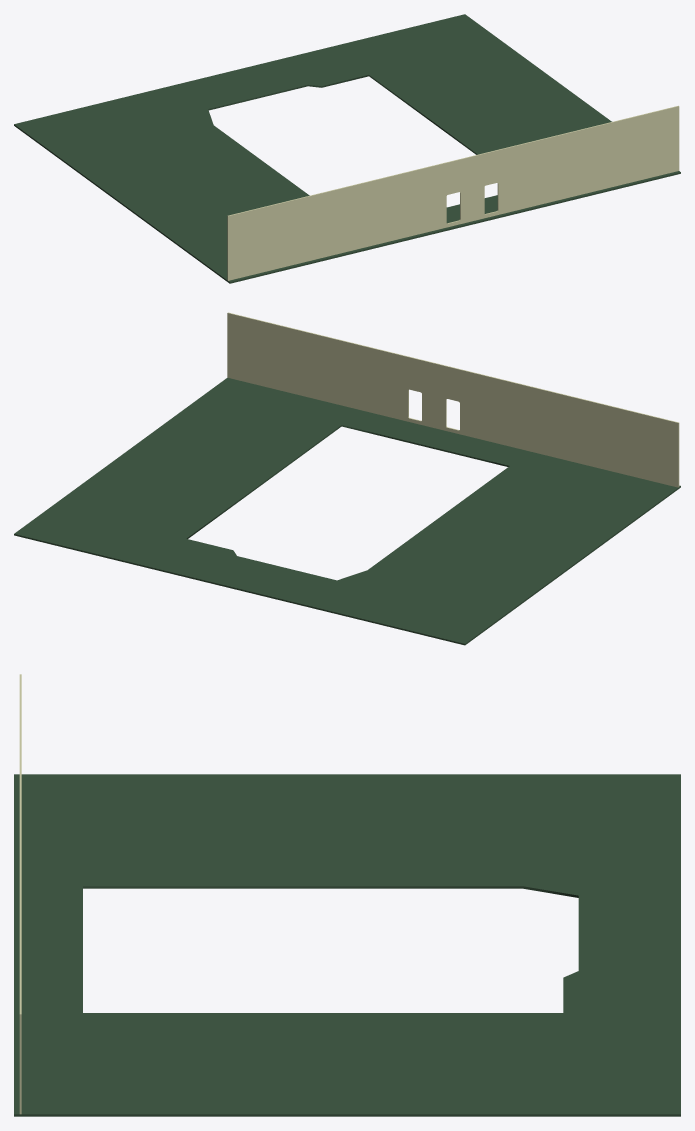
File: 2ndDeck.fbx
3 views of the same model, one above another, from view 1: azimuth 30°, elevation 25°; view 2: azimuth 150°, elevation 25°; view 3: azimuth 270°, elevation 25° (orthographic). The views are drawn at different scales.
Parts seen in each view (by area): view 1: 4_2ndDeck, 2ndDeckBackwall; view 2: 4_2ndDeck, 2ndDeckBackwall; view 3: 4_2ndDeck, 2ndDeckBackwall.
Boxes of the visible parts, box(x1,y1,x2,y2) form: 4_2ndDeck: box(14, 14, 680, 283); 2ndDeckBackwall: box(227, 105, 679, 280); 4_2ndDeck: box(14, 377, 680, 645); 2ndDeckBackwall: box(227, 312, 679, 487); 4_2ndDeck: box(14, 774, 680, 1116); 2ndDeckBackwall: box(19, 674, 21, 1114).
Bounding box in the file's own units: 3000 × 421 × 2487.
